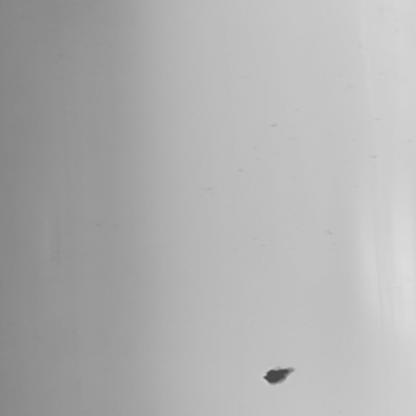kongdong: (259, 349, 307, 390)
